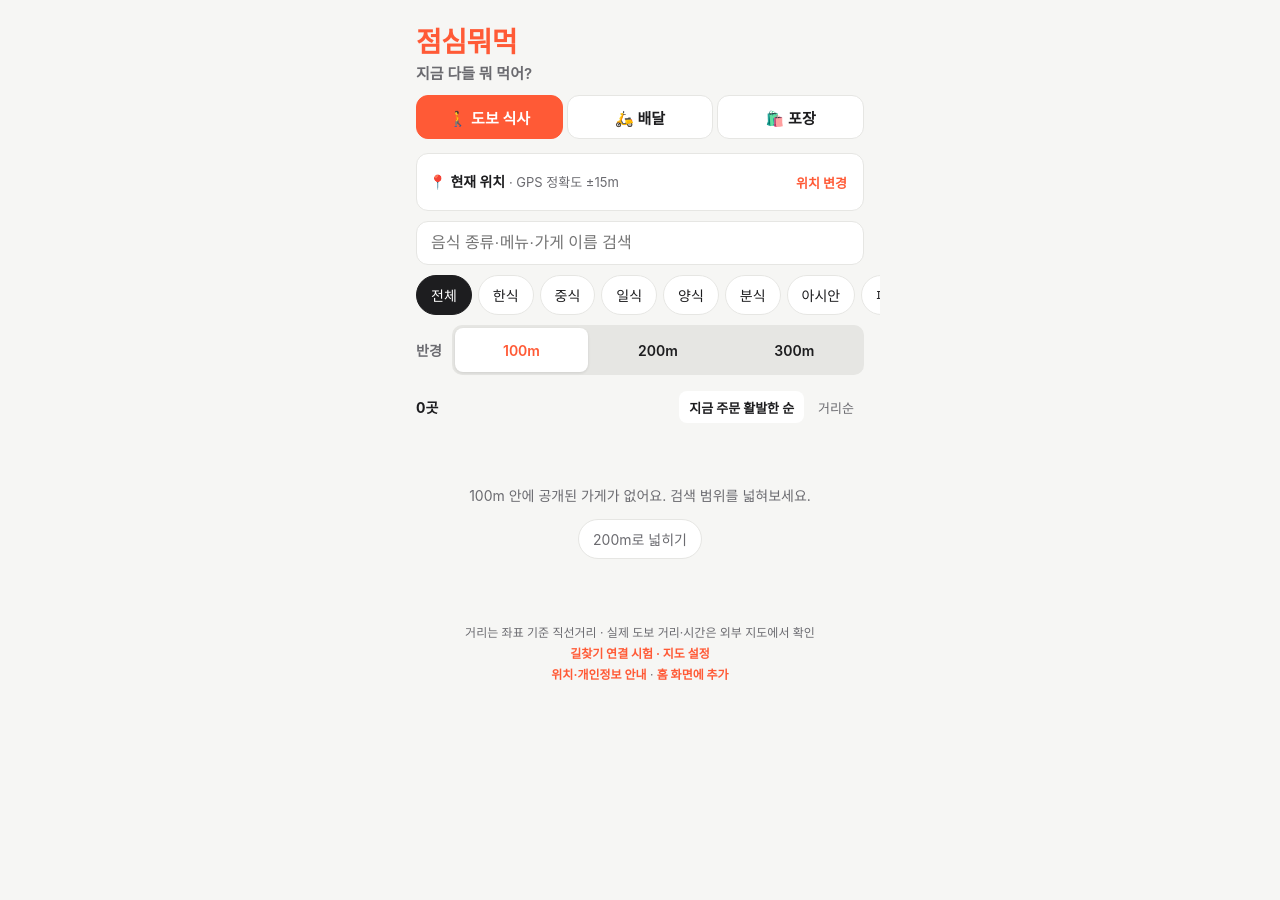
Scenario: 8단계 — 시범 서비스 점검 › 배달은 주소별 배달 가능을 확정하지 않고 ‘배달 가능 거리 안’으로 표시한다
Click the tab "🛵 배달" at [640, 117], box [567,95,713,139]
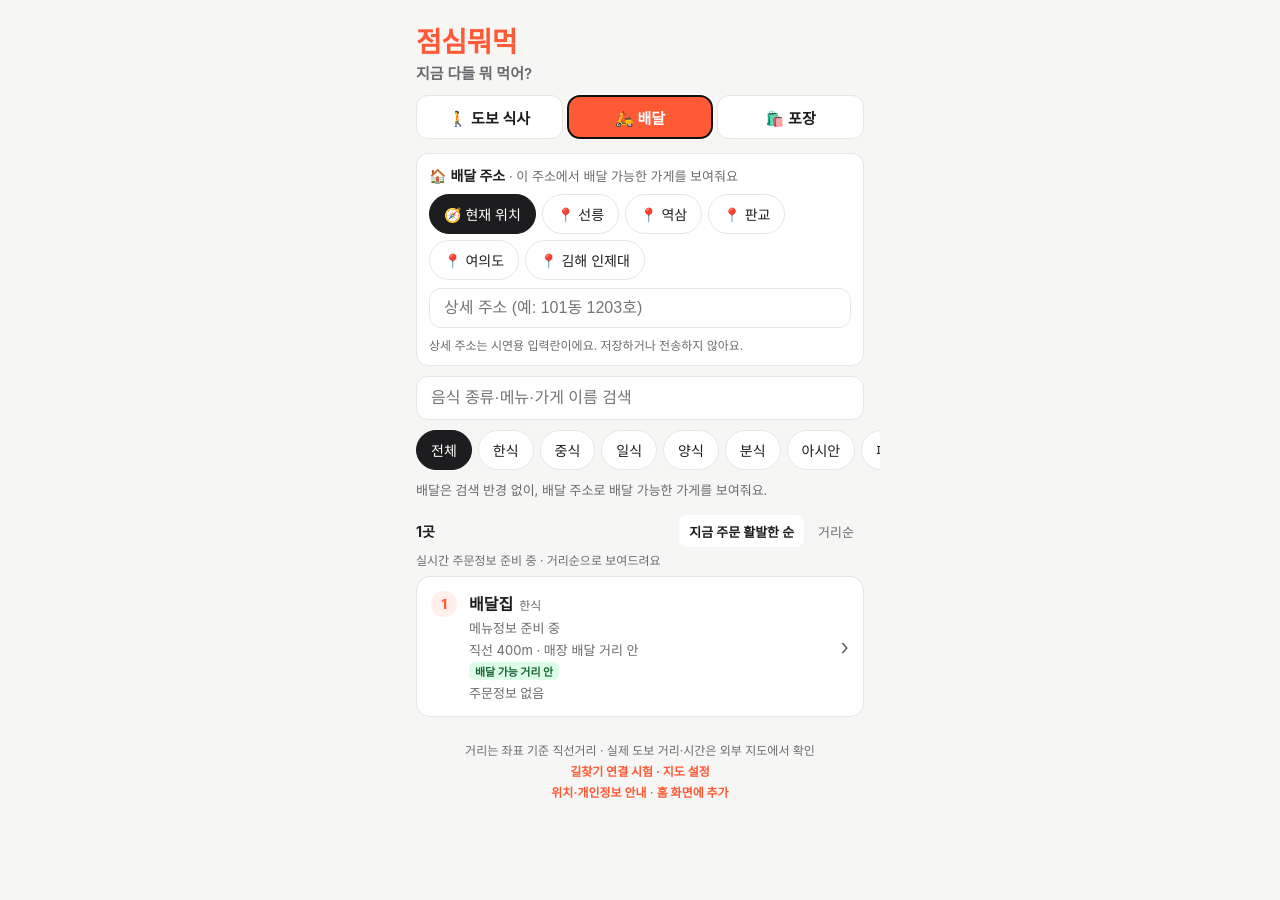
Result: the button "1 배달집 한식 메뉴정보 준비 중 직선 400m · 매장 배달 거리 안 배달 가능 거리 안 주문정보 없음 ›" is shown
Click the button "1 배달집 한식 메뉴정보 준비 중 직선 400m · 매장 배달 거리 안 배달 가능 거리 안 주문정보 없음 ›" at [640, 647], box [417,577,863,716]
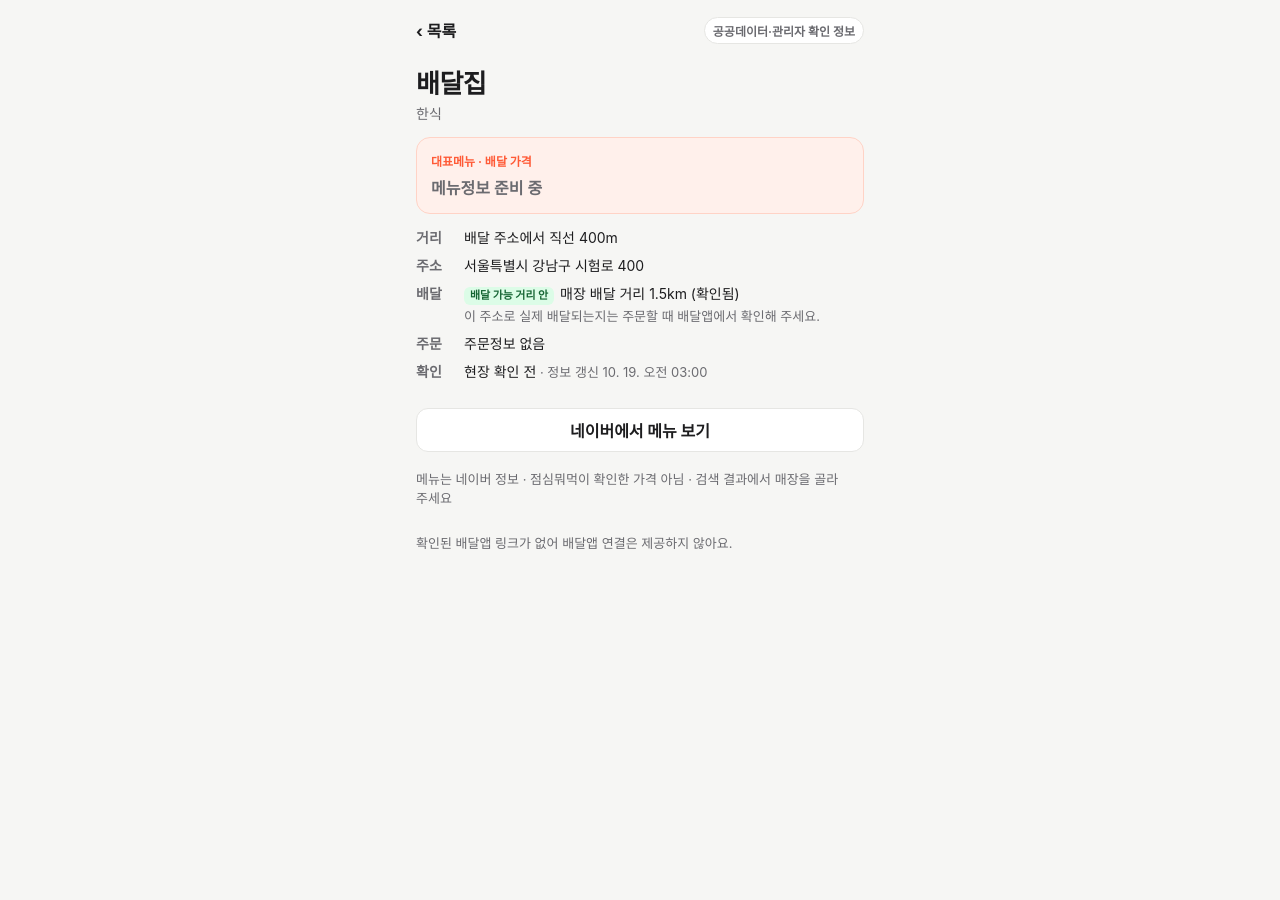
Result: the dialog named "상세정보" shows "실제 배달되는지는 주문할 때 배달앱에서 확인" at [464,308,820,324]
